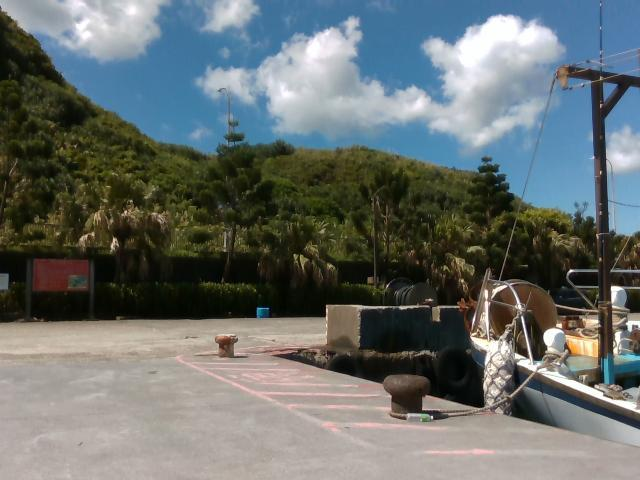pollute: (256, 307, 271, 318)
